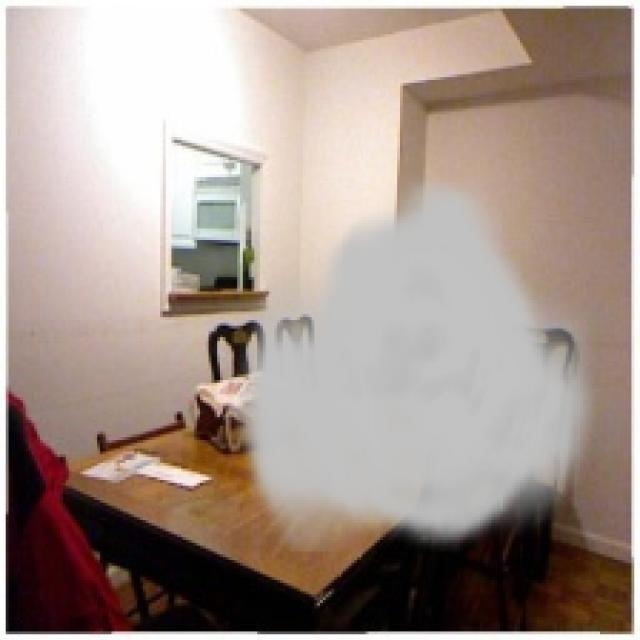Smoke: (234, 172, 606, 552)
